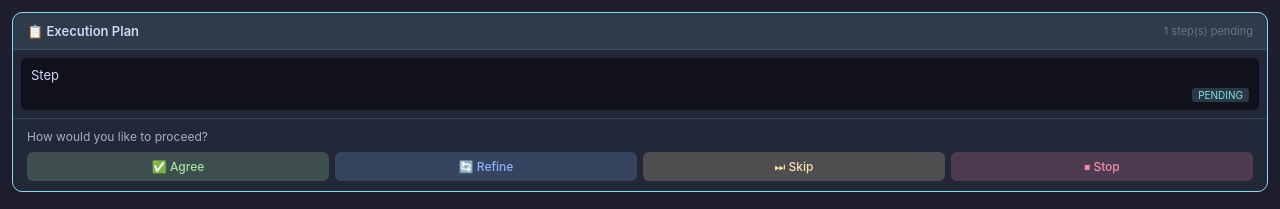
it: PlanDialog.vue › action buttons › should disable buttons while action is loading
Click the button with class "btn-stop": coordinates (1102, 167) left=951, top=152, right=1253, bottom=181
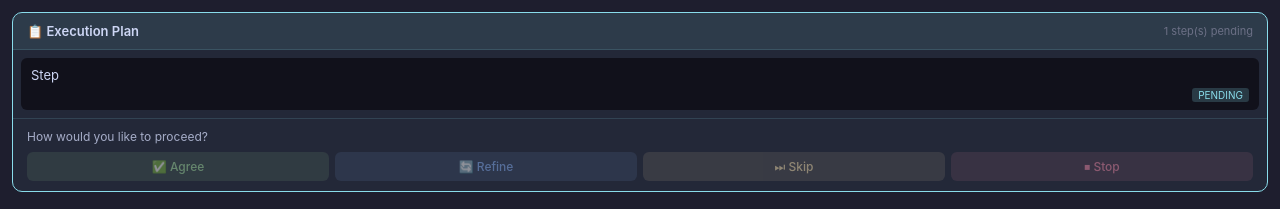
expect the button "✅ Agree" is disabled: met, box left=27, top=152, right=329, bottom=181
expect the button "🔄 Refine" is disabled: met, box left=335, top=152, right=637, bottom=181
expect the button "⏭ Skip" is disabled: met, box left=643, top=152, right=945, bottom=181
